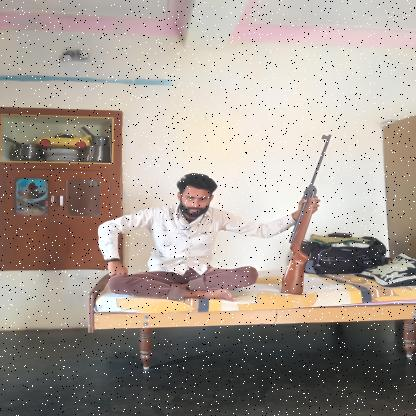rifle: (279, 134, 332, 296)
